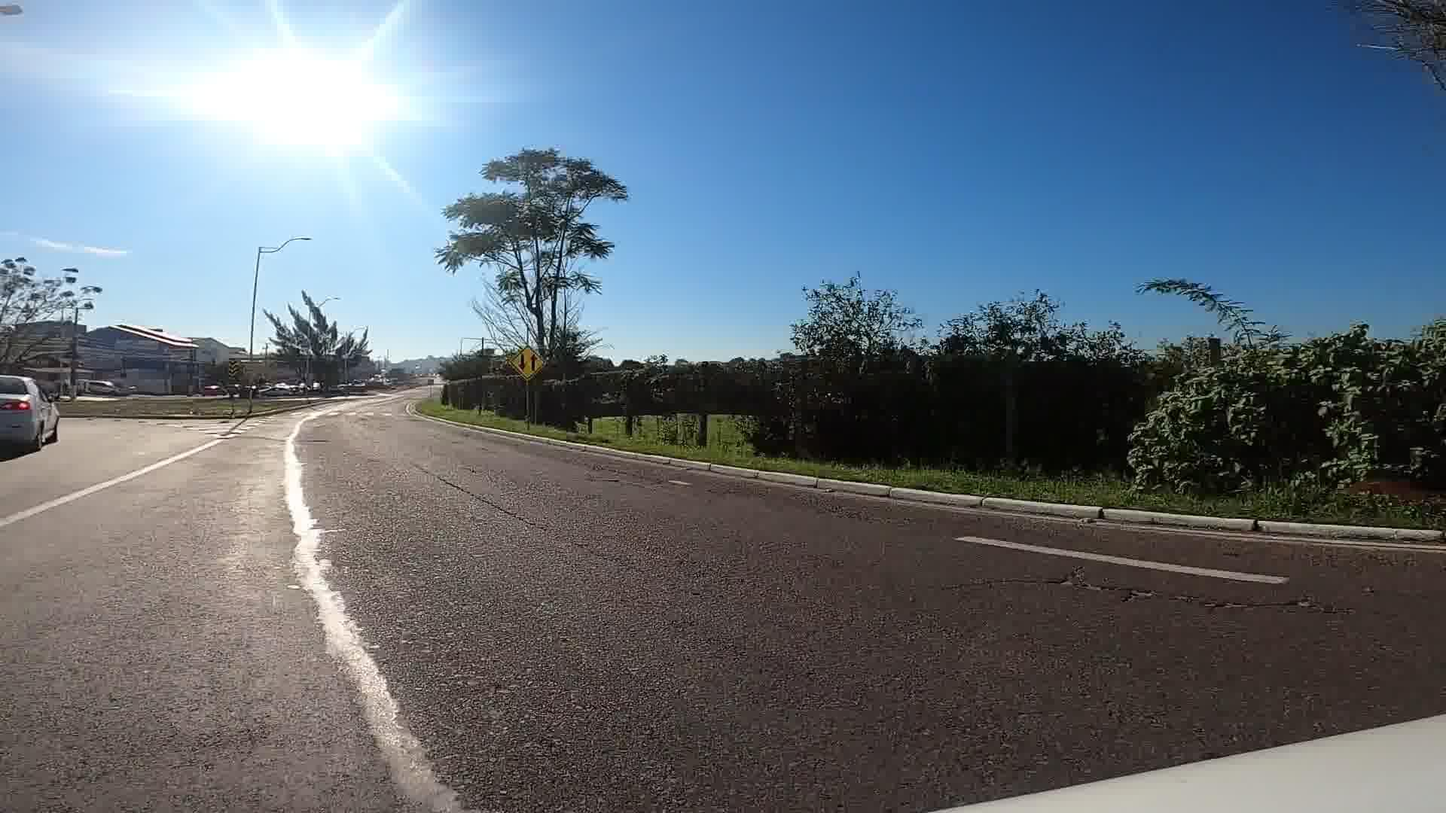A-25: (508, 346, 546, 381)
